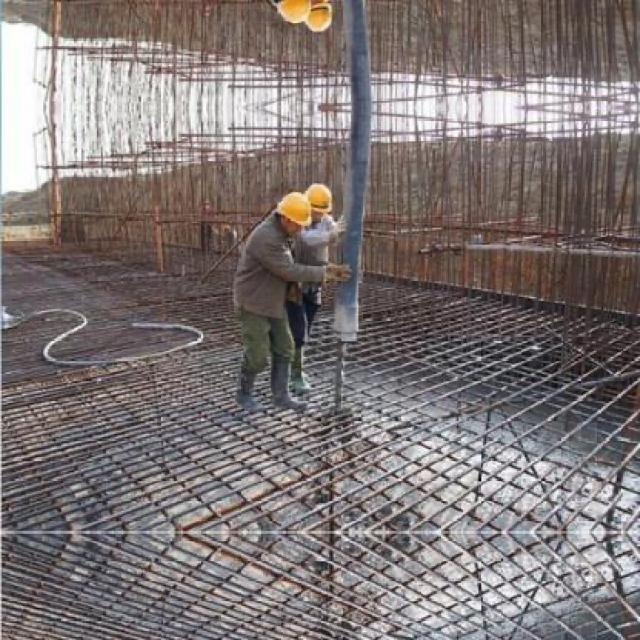helmet: (297, 179, 334, 223), (276, 188, 312, 228), (296, 0, 335, 35), (275, 0, 314, 26)
